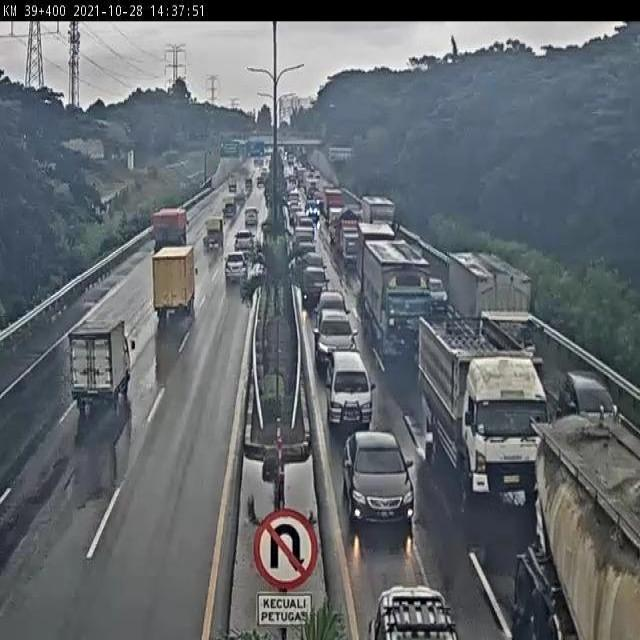big truck: (406, 304, 551, 509), (518, 416, 640, 640), (446, 240, 549, 400), (358, 240, 437, 363), (142, 206, 202, 266)
car: (335, 426, 425, 538), (369, 573, 471, 640), (319, 348, 384, 445), (553, 360, 621, 429), (310, 315, 365, 376), (317, 287, 355, 320), (222, 249, 250, 288), (232, 228, 259, 256), (239, 202, 264, 230)
small truck: (62, 320, 138, 424), (140, 239, 209, 328), (201, 216, 229, 249)
